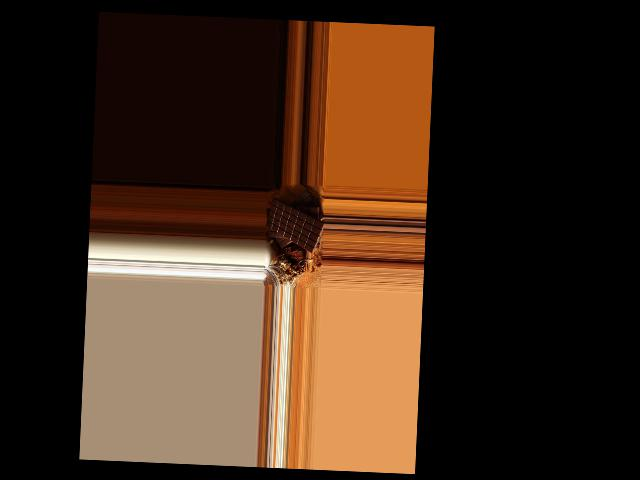chocolate: (267, 197, 325, 256)
